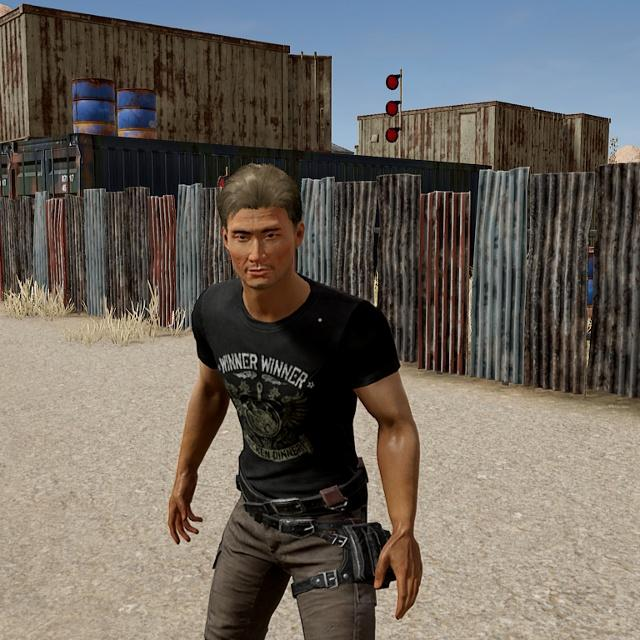head: (216, 161, 308, 292)
people: (167, 160, 423, 640)
